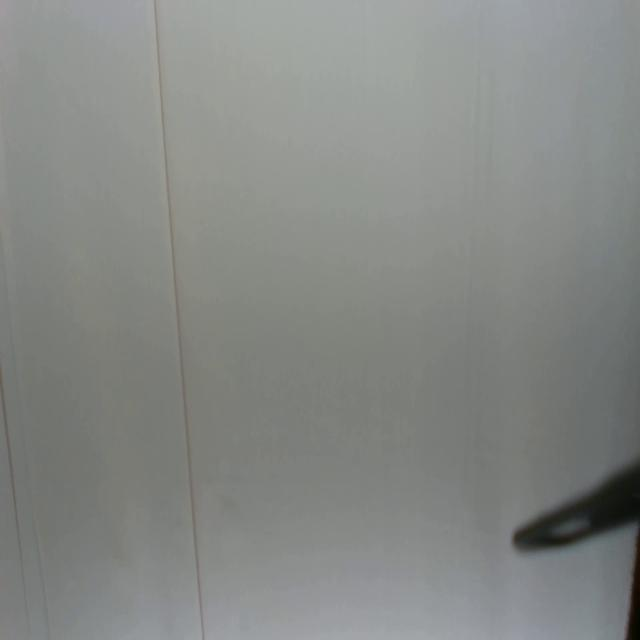crease: (153, 0, 205, 636), (1, 238, 51, 631), (0, 373, 26, 601), (466, 15, 484, 299)
